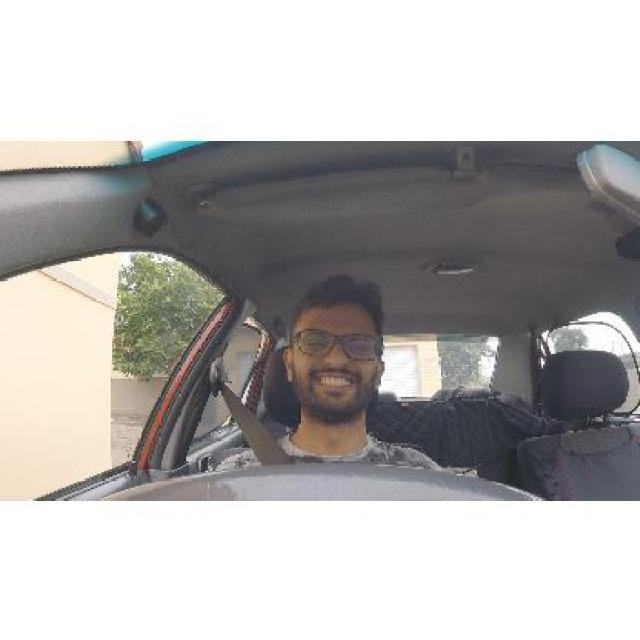person: (277, 274, 415, 431)
